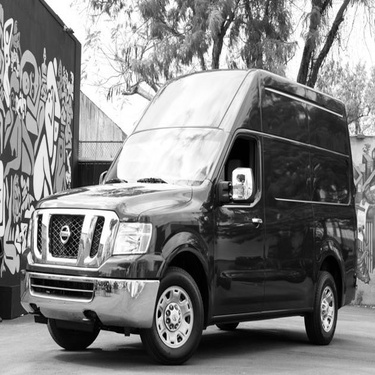car: (11, 58, 361, 369)
